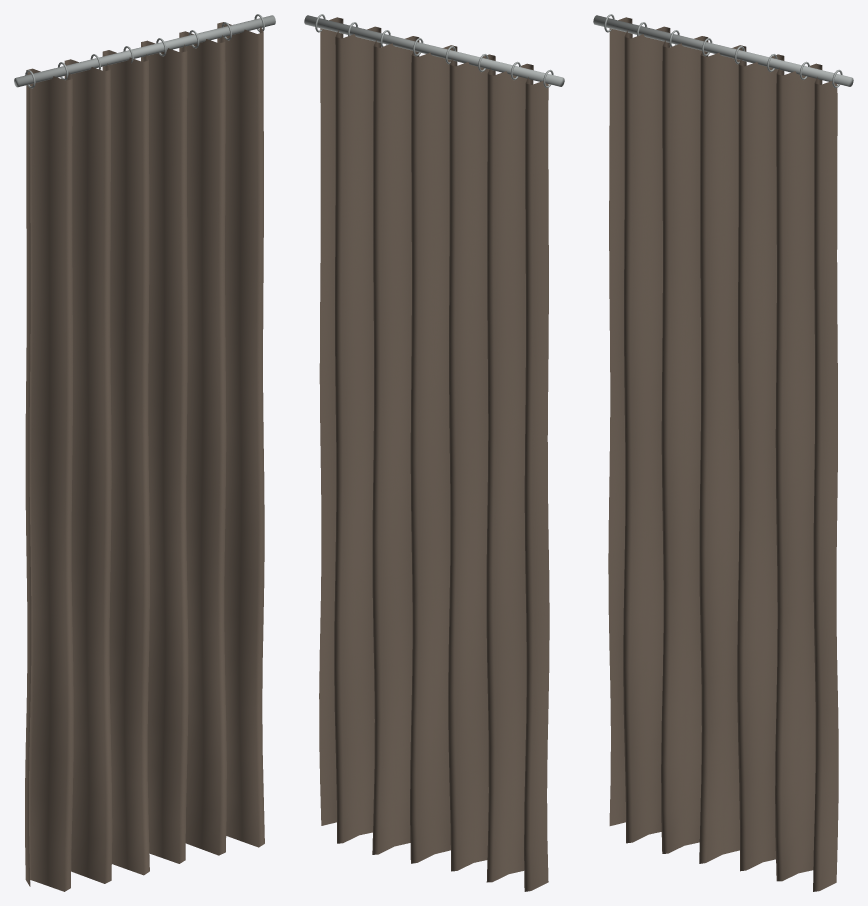
Rendered from industrial.curtain.gltf.
3 views of the same model, side by side, from view 1: azimuth 30°, elevation 25°; view 2: azimuth 150°, elevation 25°; view 3: azimuth 330°, elevation 25° (orthographic).
Parts seen in each view (by area): view 1: industrial.curtain.linen-falls; view 2: industrial.curtain.linen-falls; view 3: industrial.curtain.linen-falls.
Boxes of the visible parts, box(x1,y1,x2,y2) form: industrial.curtain.linen-falls: box(14, 14, 275, 891); industrial.curtain.linen-falls: box(304, 14, 564, 891); industrial.curtain.linen-falls: box(593, 14, 853, 891).
Size of the model in its own units: 0.728 by 2.22 by 0.1169.
2 materials, 1 textured.
